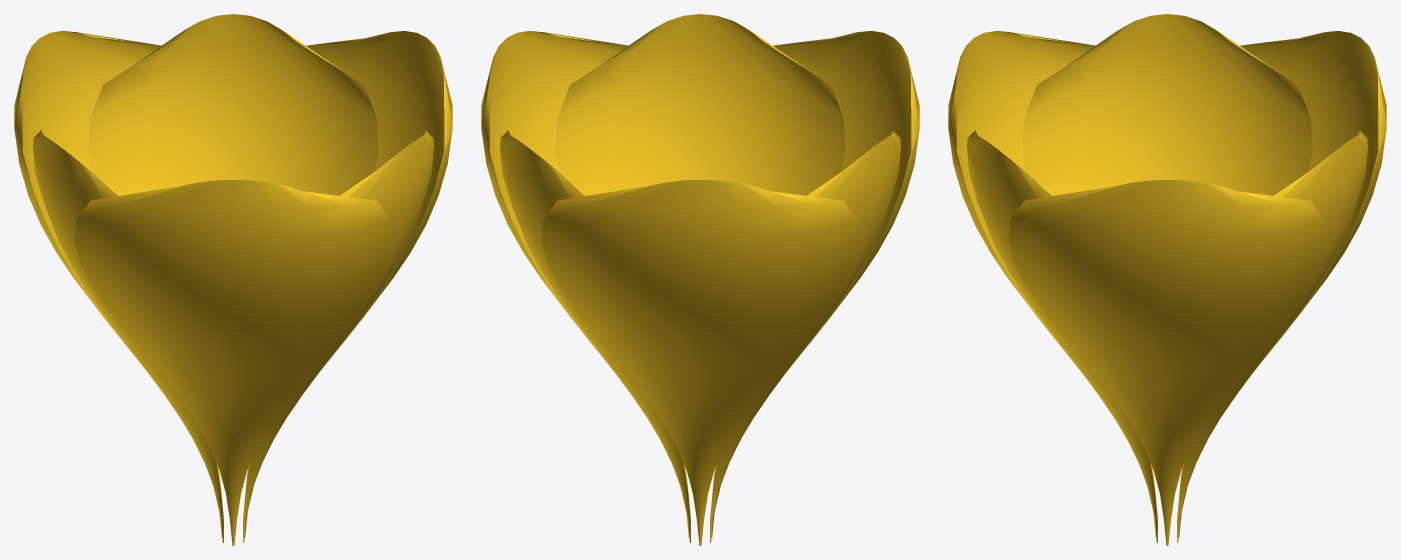
File: garden-tulip-bloom-head-2.glb
3 renders of one model, left to right at view 1: azimuth 30°, elevation 25°; view 2: azimuth 150°, elevation 25°; view 3: azimuth 270°, elevation 25°, orthographic.
Visible parts, largest first — view 1: tulip-bloom-head-2; view 2: tulip-bloom-head-2; view 3: tulip-bloom-head-2.
Part boxes in pixels (x1=…): tulip-bloom-head-2: x1=14, y1=14, x2=452, y2=545; tulip-bloom-head-2: x1=481, y1=14, x2=919, y2=545; tulip-bloom-head-2: x1=948, y1=14, x2=1386, y2=545.
Size of the model in its own units: 0.0971 by 0.113 by 0.0987.
